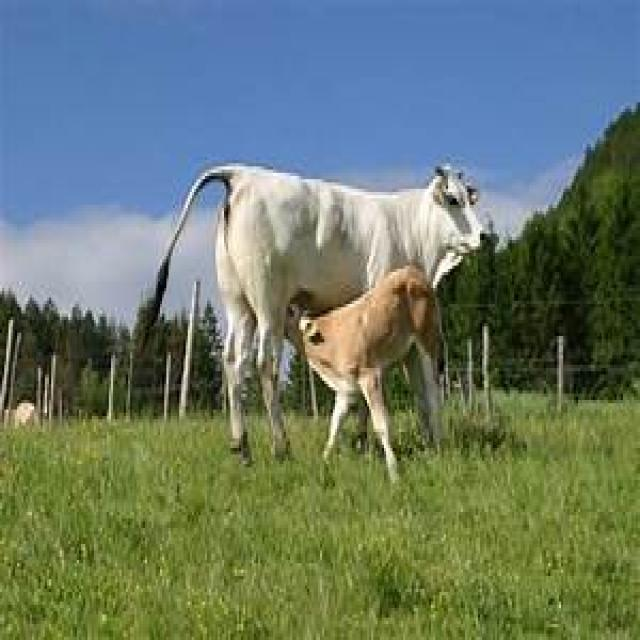cow: (198, 166, 484, 464), (290, 266, 446, 480)
